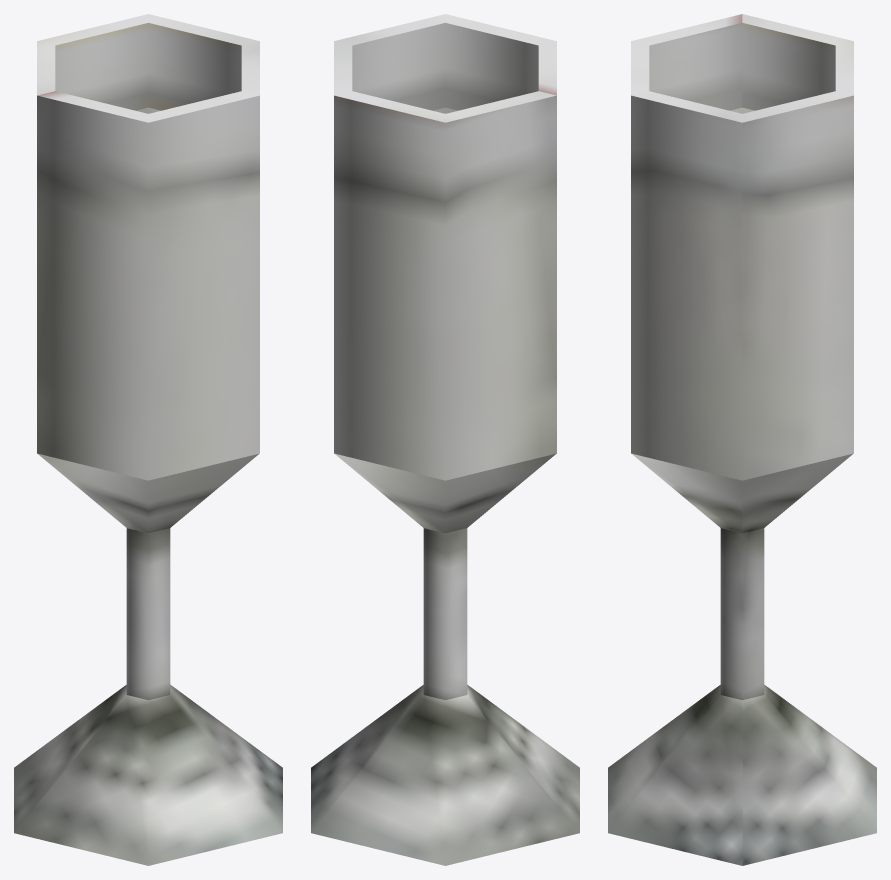
Rendered from DrinkV2.fbx.
3 views of the same model, side by side, from view 1: azimuth 30°, elevation 25°; view 2: azimuth 150°, elevation 25°; view 3: azimuth 270°, elevation 25° (orthographic).
Visible parts, largest first — view 1: Cocktails.007; view 2: Cocktails.007; view 3: Cocktails.007.
Part boxes in pixels (x1,y1,x2,y2): Cocktails.007: [14, 14, 282, 865]; Cocktails.007: [311, 14, 579, 865]; Cocktails.007: [608, 14, 876, 865].
Size of the model in its own units: 0.0833 by 0.2169 by 0.0722.
